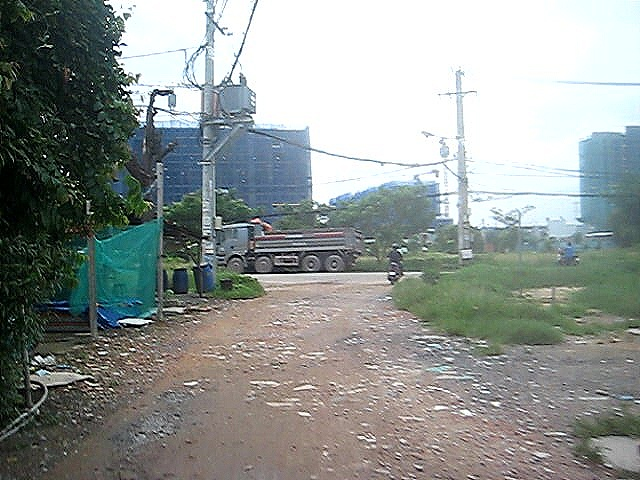hole: (109, 397, 188, 460), (336, 333, 368, 346)
